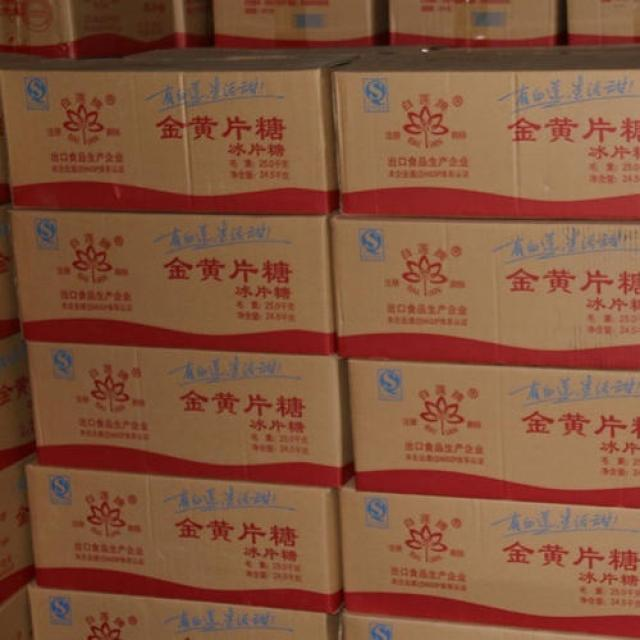box: (1, 45, 381, 217), (335, 44, 639, 219), (27, 454, 342, 614), (22, 340, 350, 489), (330, 216, 639, 371), (339, 480, 639, 639), (10, 210, 334, 357), (348, 359, 639, 508), (27, 577, 338, 639), (0, 2, 181, 61), (214, 1, 390, 48), (389, 1, 566, 44), (338, 612, 606, 640), (0, 454, 39, 604), (0, 334, 37, 467), (566, 0, 639, 43), (0, 210, 22, 340), (175, 2, 216, 49), (0, 586, 31, 637)
